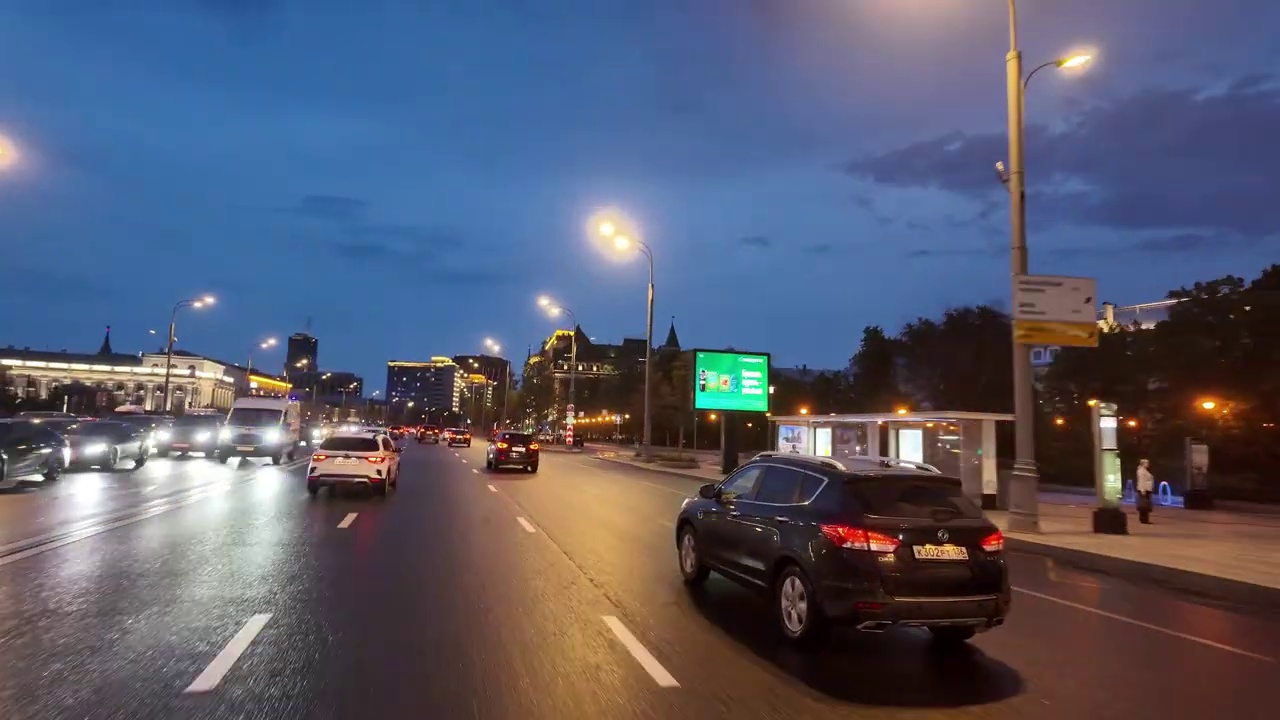acesa: (592, 214, 637, 260), (1056, 45, 1095, 77), (537, 294, 563, 318), (191, 291, 217, 312), (483, 335, 502, 357), (0, 137, 11, 170)
